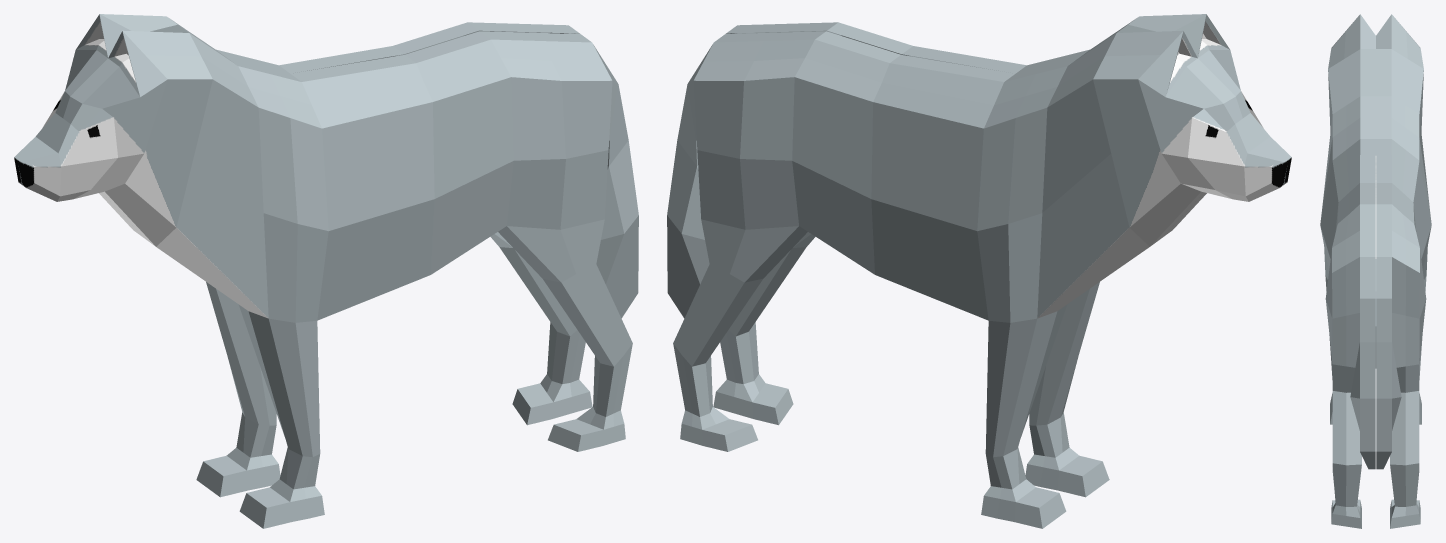
Rendered from Wolf.fbx.
3 views of the same model, side by side, from view 1: azimuth 30°, elevation 25°; view 2: azimuth 150°, elevation 25°; view 3: azimuth 270°, elevation 25° (orthographic). The views are drawn at different scales.
Visible parts, largest first — view 1: Plane; view 2: Plane; view 3: Plane.
Boxes of the visible parts, x1,y1,x2,y2 form: Plane: [14, 14, 638, 528]; Plane: [667, 14, 1291, 528]; Plane: [1320, 14, 1431, 528].
Size of the model in its own units: 189 by 153 by 43.79.
1 material, 1 textured.
